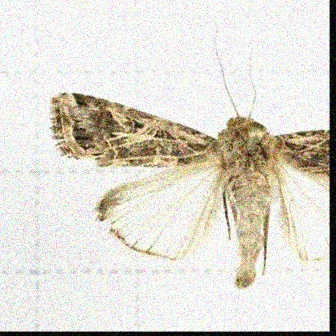Spodoptera litura: (49, 18, 328, 289)
